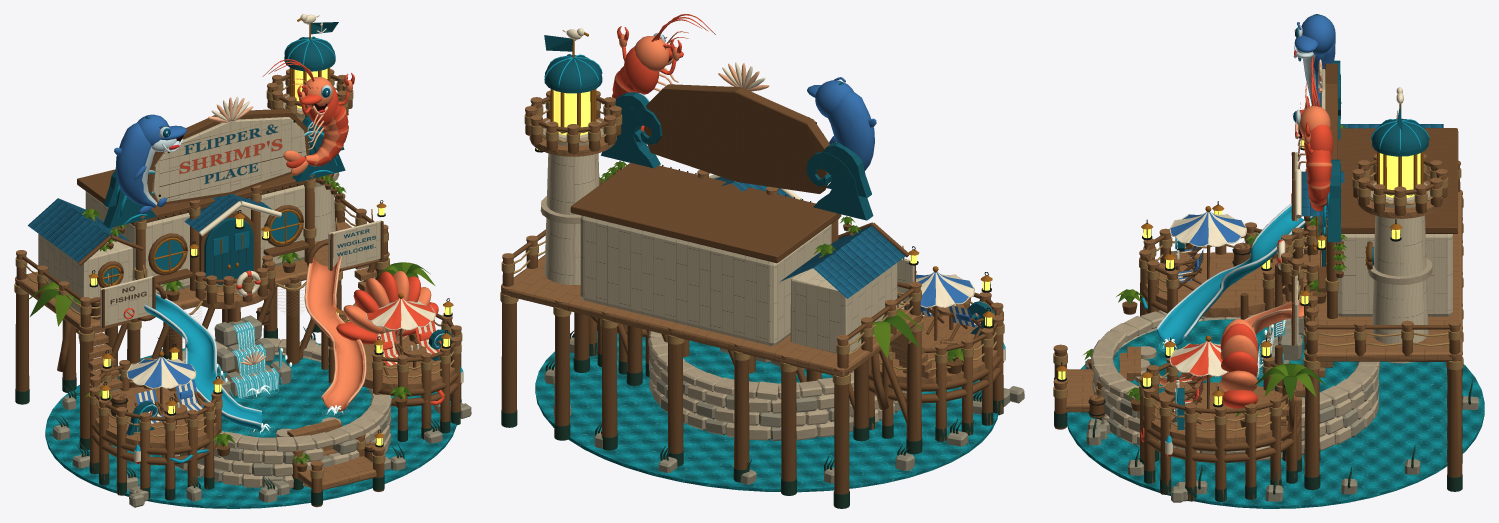
The model's file is flipper-shrimp-ca-light.glb.
3 views of the same model, side by side, from view 1: azimuth 30°, elevation 25°; view 2: azimuth 150°, elevation 25°; view 3: azimuth 270°, elevation 25° (orthographic). The views are drawn at different scales.
Visible parts, largest first — view 1: Flipper and Shrimp C+A; view 2: Flipper and Shrimp C+A; view 3: Flipper and Shrimp C+A.
Part boxes in pixels (box(x1,y1,x2,y2)): Flipper and Shrimp C+A: box(14, 14, 471, 508); Flipper and Shrimp C+A: box(500, 14, 1024, 508); Flipper and Shrimp C+A: box(1053, 14, 1484, 508).
Bounding box in the file's own units: 0.8603 × 0.7671 × 0.7817.
33 materials, 12 textured.
